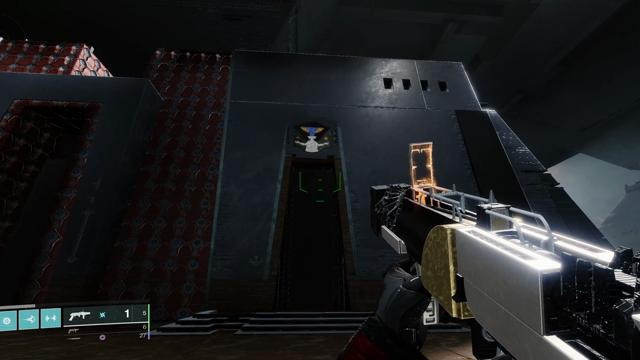drink: (292, 121, 332, 154)
